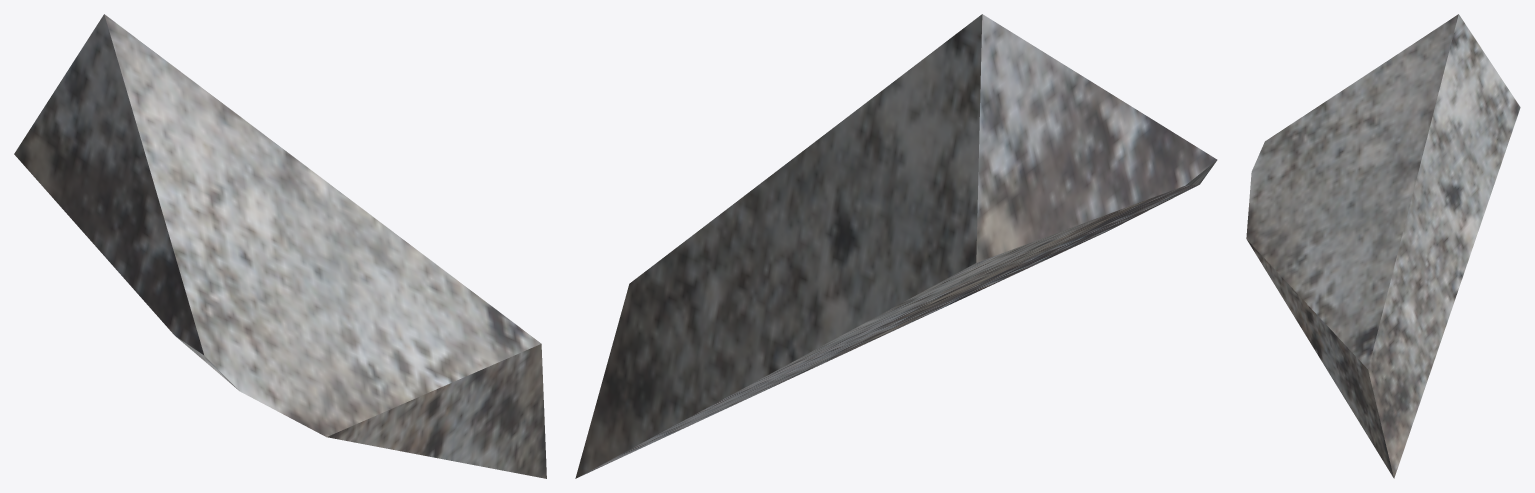
Rendered from Asteroid_Large_001_02_005_03_015.fbx.
The picture shows the model from 3 angles, left to right: view 1: azimuth 30°, elevation 25°; view 2: azimuth 150°, elevation 25°; view 3: azimuth 270°, elevation 25°; orthographic projection. The views are drawn at different scales.
Visible parts, largest first — view 1: Asteroid_Large_001_02_005_03_015; view 2: Asteroid_Large_001_02_005_03_015; view 3: Asteroid_Large_001_02_005_03_015.
Boxes of the visible parts, x1,y1,x2,y2 form: Asteroid_Large_001_02_005_03_015: [14, 14, 546, 478]; Asteroid_Large_001_02_005_03_015: [575, 14, 1217, 478]; Asteroid_Large_001_02_005_03_015: [1246, 14, 1520, 478].
Bounding box in the file's own units: 4.5 × 5.09 × 3.71.
